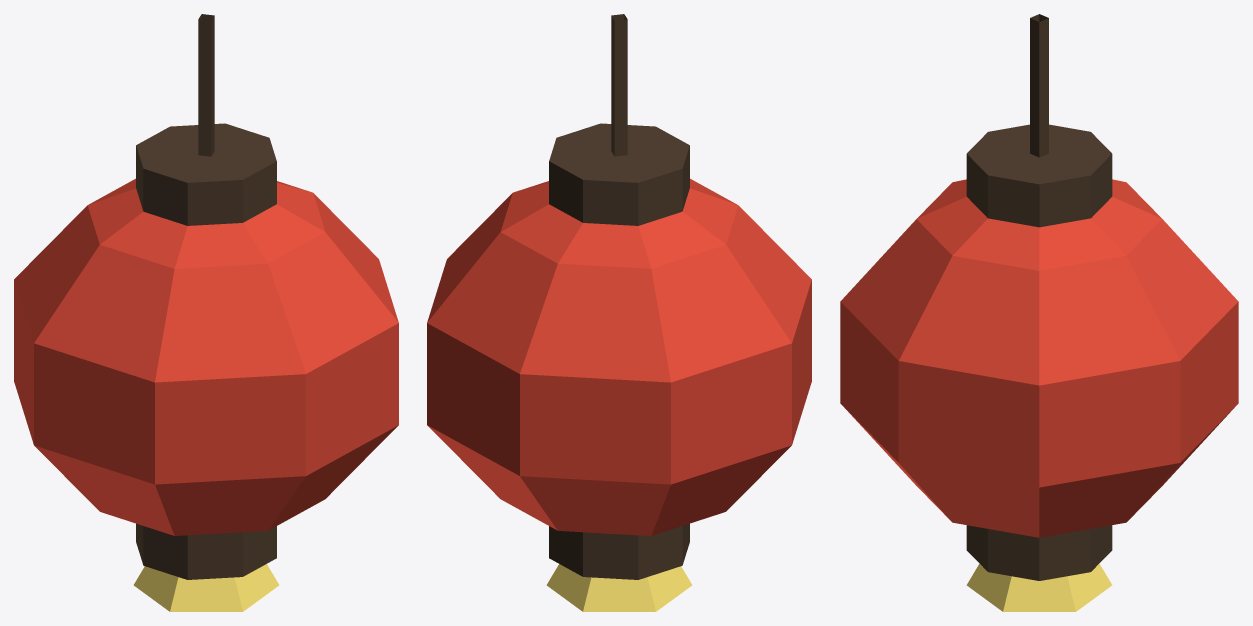
The model's file is japan_lantern-sphere.fbx.
3 renders of one model, left to right at view 1: azimuth 30°, elevation 25°; view 2: azimuth 150°, elevation 25°; view 3: azimuth 270°, elevation 25°, orthographic.
Visible parts, largest first — view 1: japan_lantern_sphere; view 2: japan_lantern_sphere; view 3: japan_lantern_sphere.
Boxes of the visible parts, x1,y1,x2,y2 form: japan_lantern_sphere: (14, 14, 398, 611); japan_lantern_sphere: (427, 14, 811, 611); japan_lantern_sphere: (840, 14, 1238, 611).
Bounding box in the file's own units: 127 × 200 × 127.
